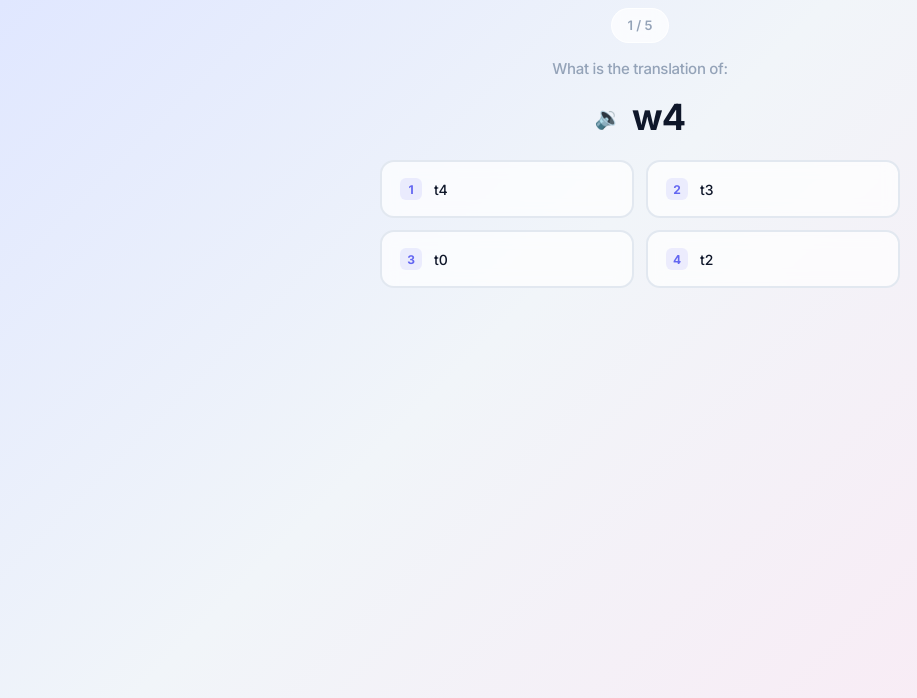
Test: Quiz › shows next button after selecting an answer
The width and height of the screenshot is (917, 698).
Click the button "1 t4". click: (507, 189)
box: [380,160,634,218]
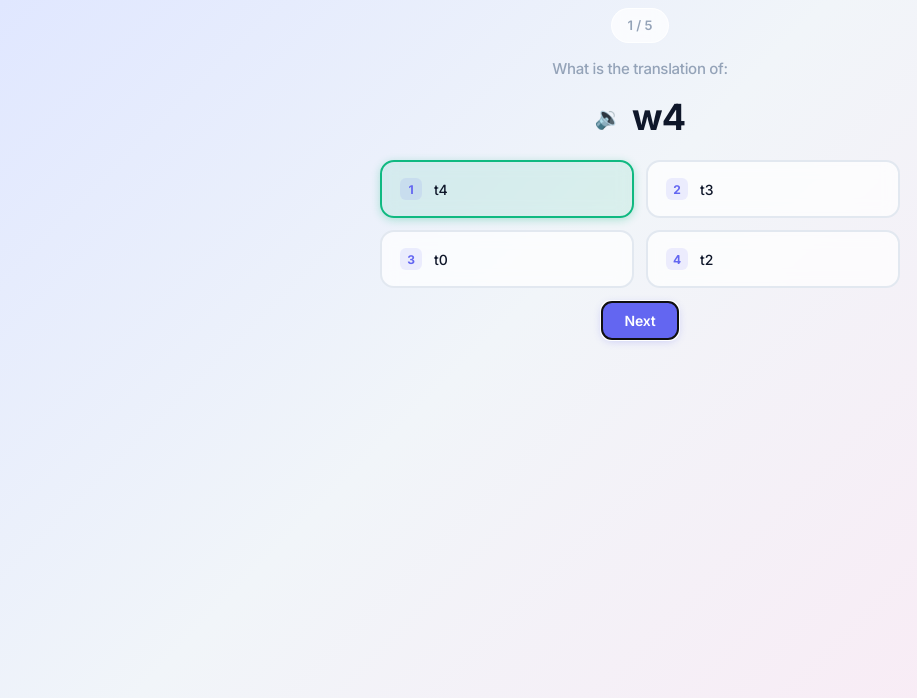
Expected: the button "Next" is shown, [602,302,678,339]
